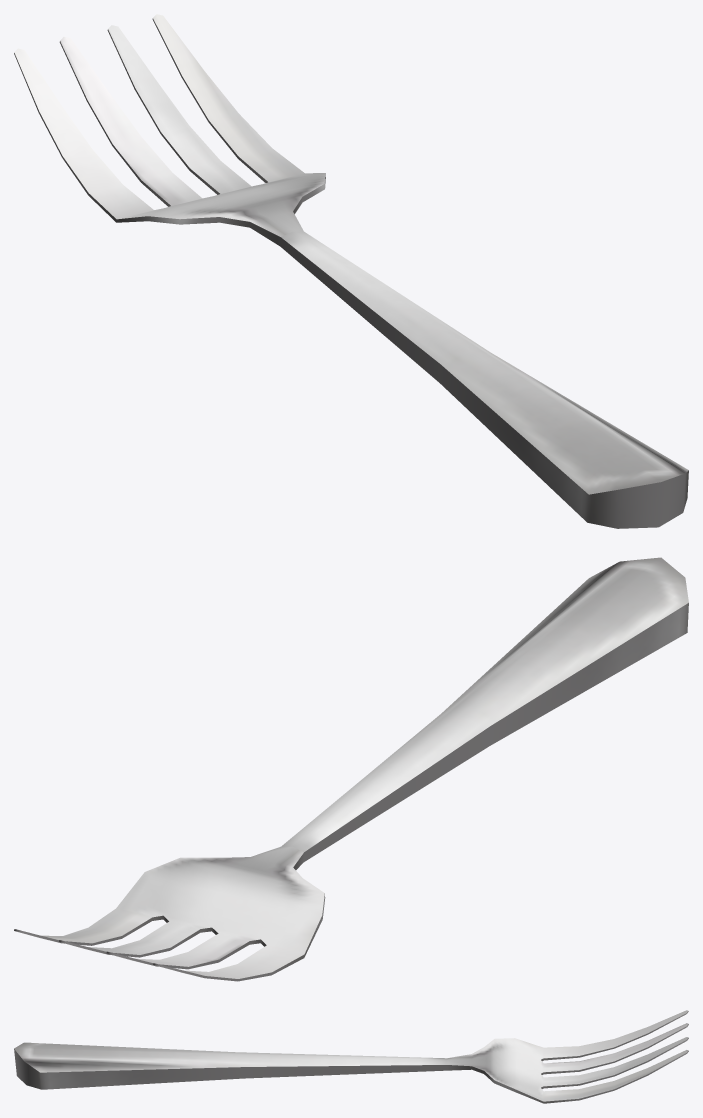
The model's file is ZhiBanShi_01_chazi_01.FBX.
3 views of the same model, one above another, from view 1: azimuth 30°, elevation 25°; view 2: azimuth 150°, elevation 25°; view 3: azimuth 270°, elevation 25° (orthographic). The views are drawn at different scales.
Parts seen in each view (by area): view 1: PiErSenGongYu_01_chazi_01; view 2: PiErSenGongYu_01_chazi_01; view 3: PiErSenGongYu_01_chazi_01.
Part boxes in pixels (<box>): PiErSenGongYu_01_chazi_01: <box>14,14,688,528</box>; PiErSenGongYu_01_chazi_01: <box>14,557,688,981</box>; PiErSenGongYu_01_chazi_01: <box>14,1010,688,1103</box>.
Bounding box in the file's own units: 8.98 × 3.58 × 47.36.
